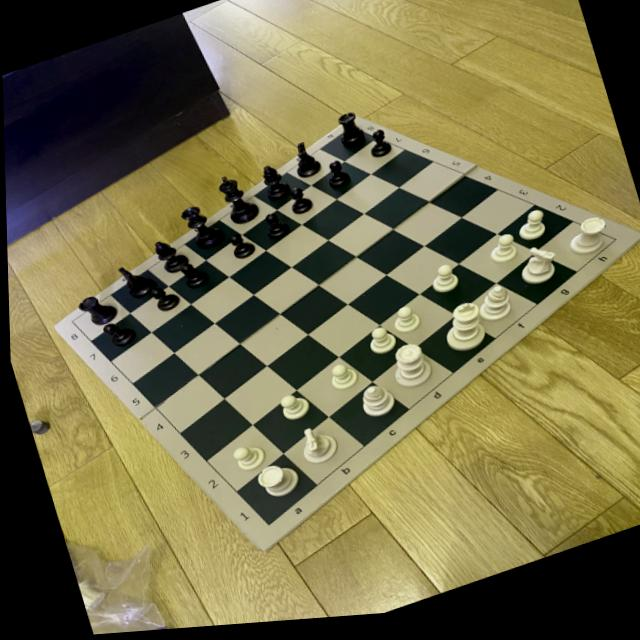Chessboard-Corners: (251, 516, 278, 540), (607, 242, 621, 254), (66, 317, 77, 325)
